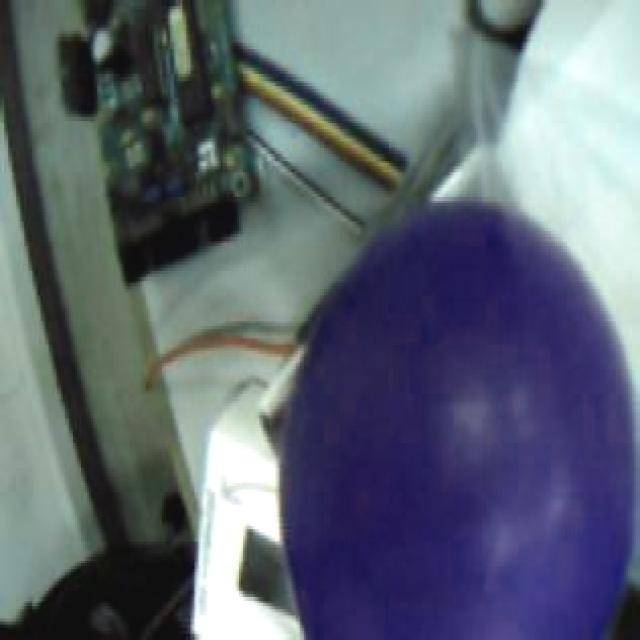BallPurple: (282, 199, 638, 640)
